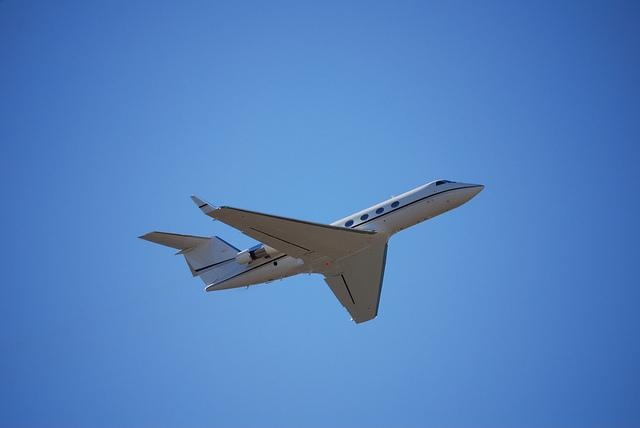airplane: (131, 174, 485, 321)
